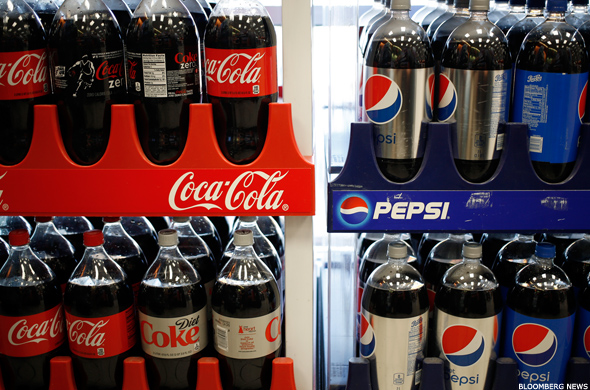pepsi: (509, 317, 556, 368), (509, 321, 556, 368), (363, 73, 403, 125), (442, 320, 483, 366), (438, 72, 458, 120), (360, 312, 377, 356)
